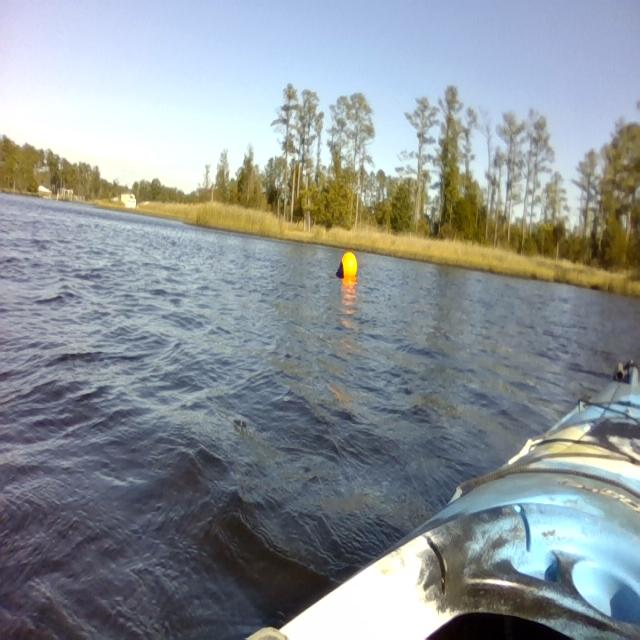Buoy: (333, 245, 361, 287)
